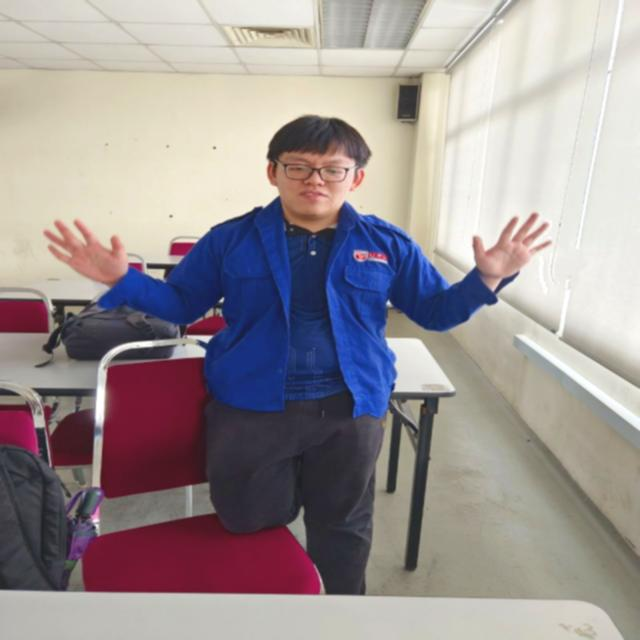person_with_labcoat: (45, 116, 549, 594)
